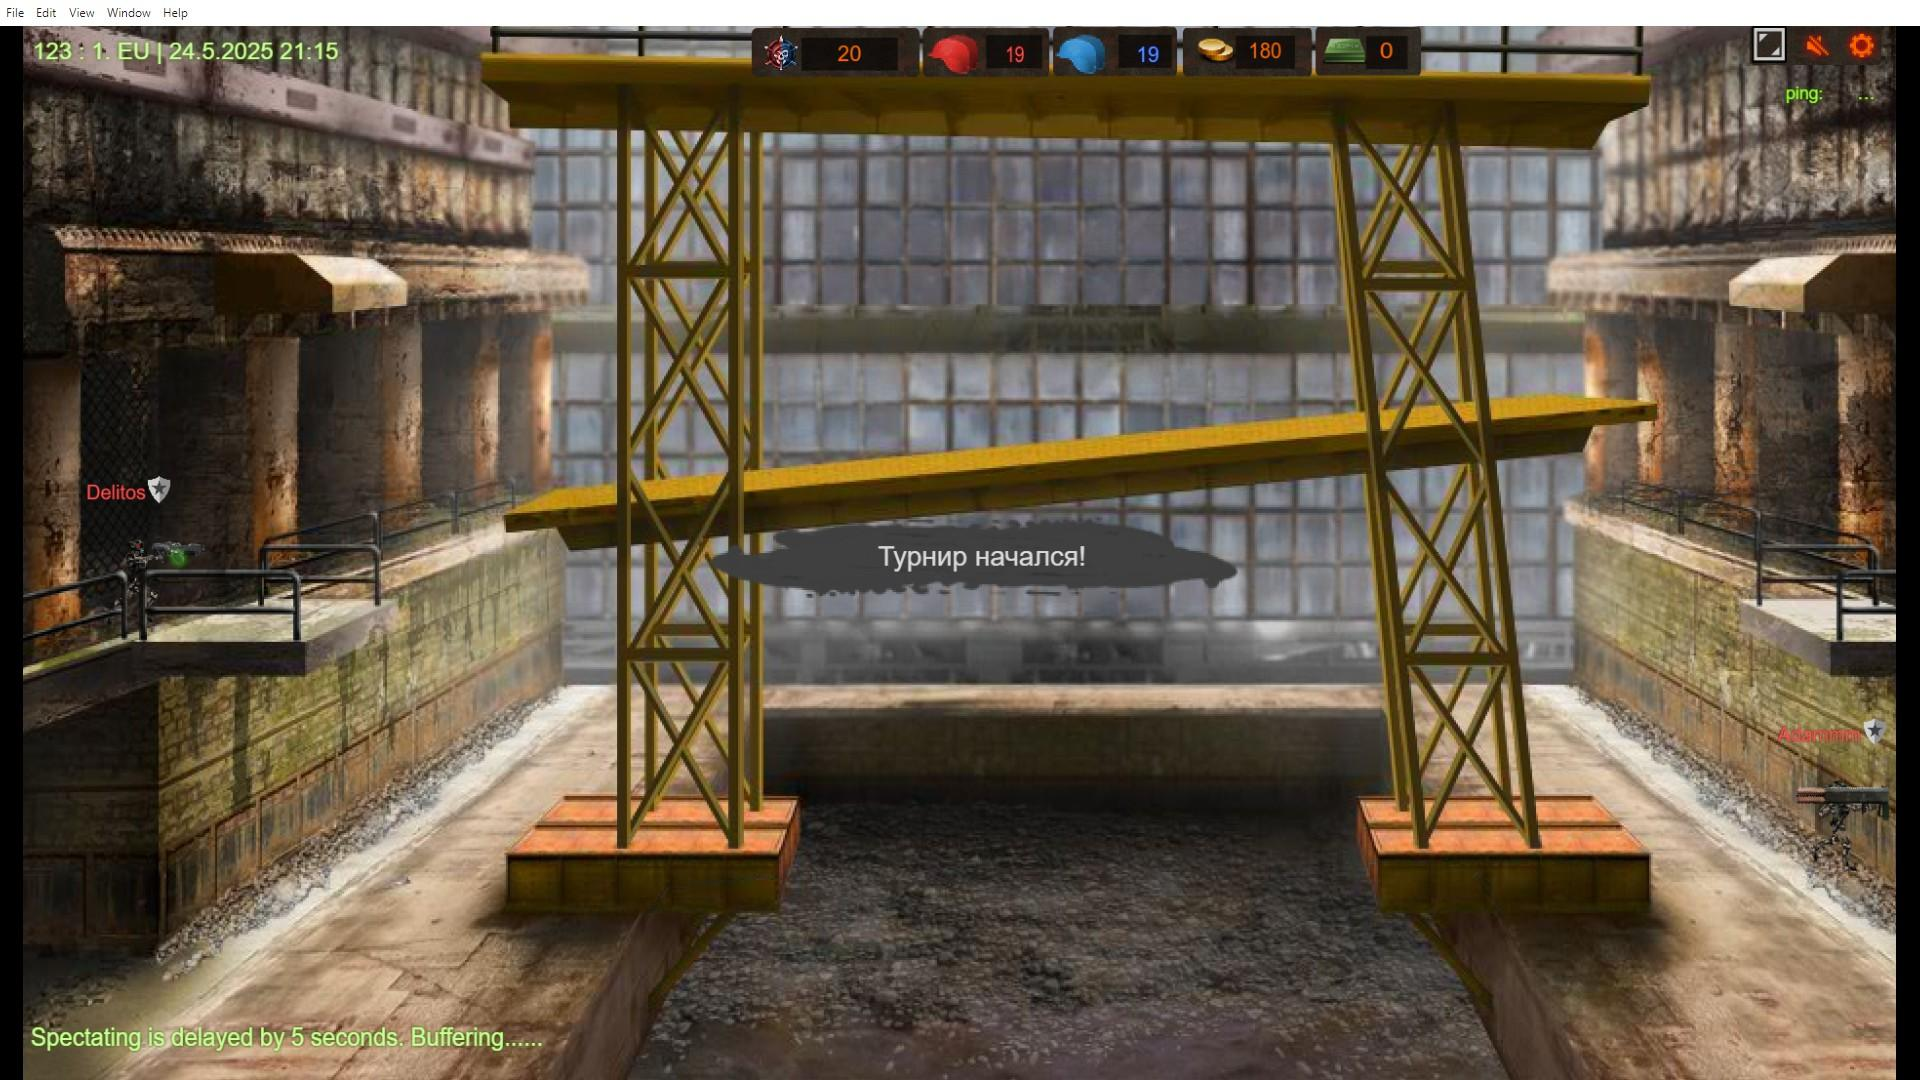enemy: (127, 541, 150, 630), (1826, 781, 1847, 870)
